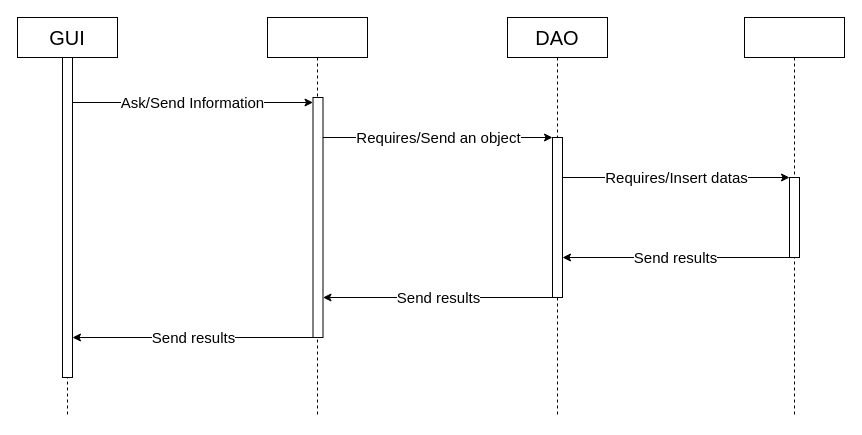
The diagram is 862 pixels wide and 435 high, and some of its shapes have lost their labels. Each missing label, with the box of its shape:
Database: (744, 16, 844, 418)
Registry: (266, 16, 368, 418)
